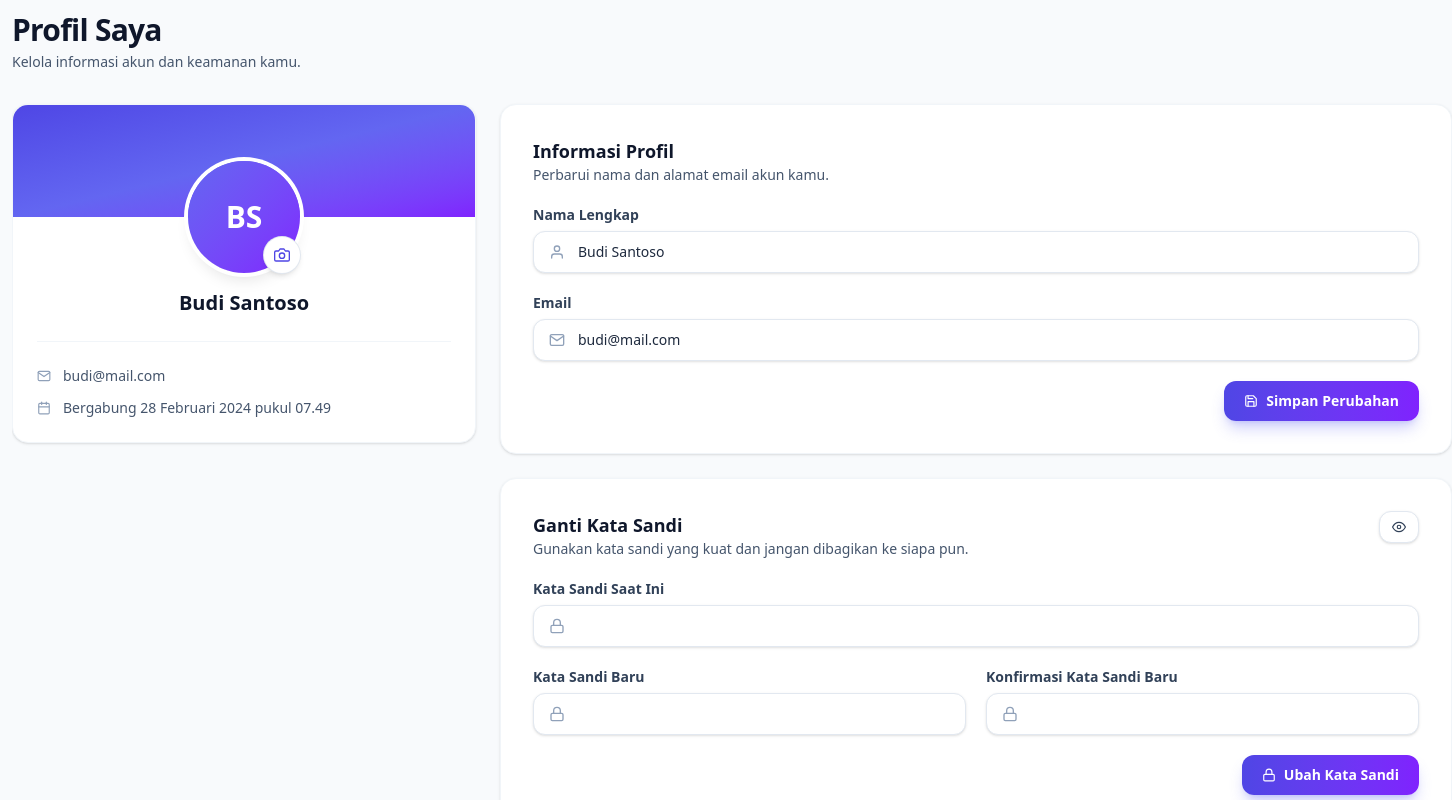
Test: ProfilePage › informasi profil › menampilkan pesan nama pendek dan email tidak valid
The width and height of the screenshot is (1452, 800).
Replace the text in the field labelled "Nama Lengkap" with "ab" at (976, 252), box [533, 231, 1419, 273]
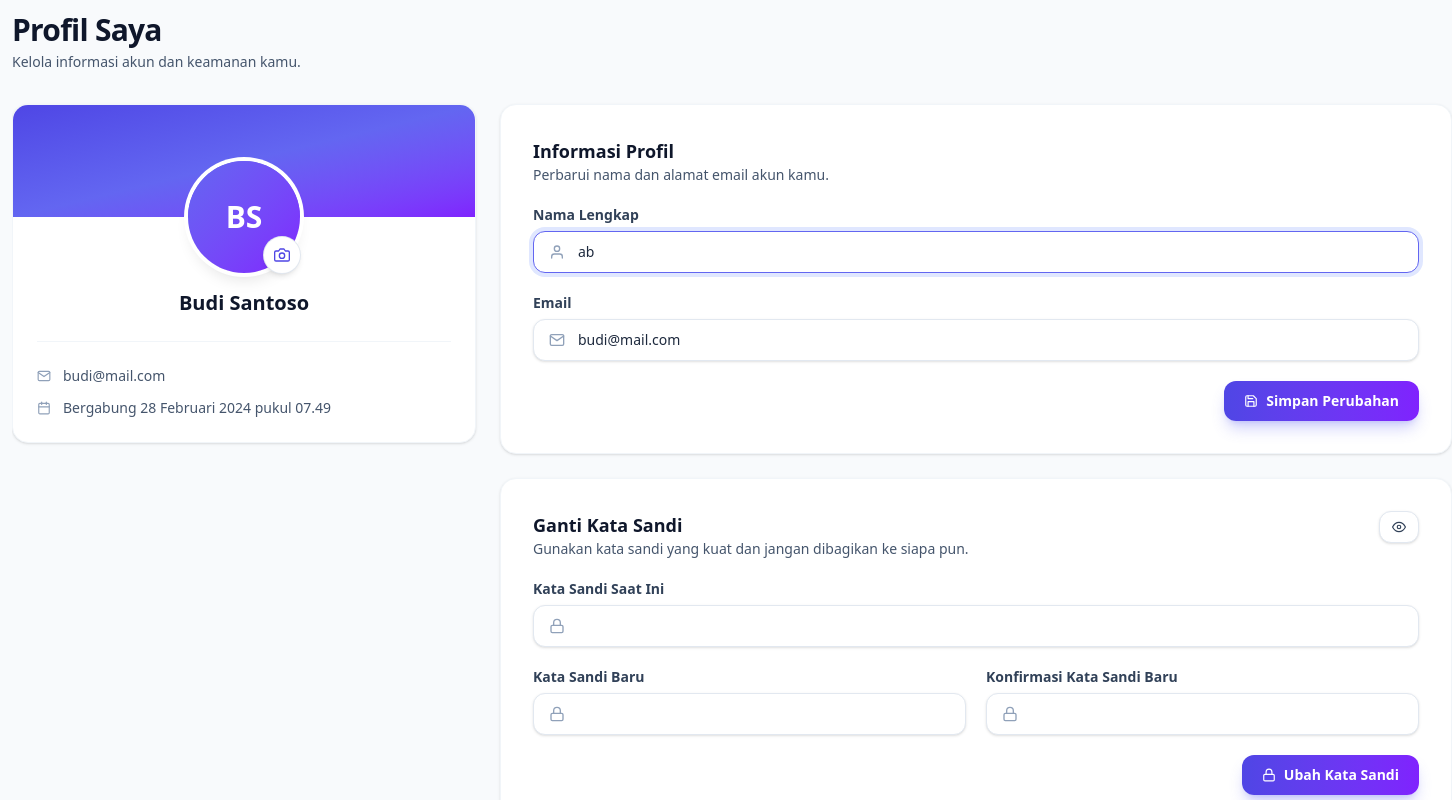
Replace the text in the field labelled "Email" with "bukan-email" at (976, 340), box [533, 319, 1419, 361]
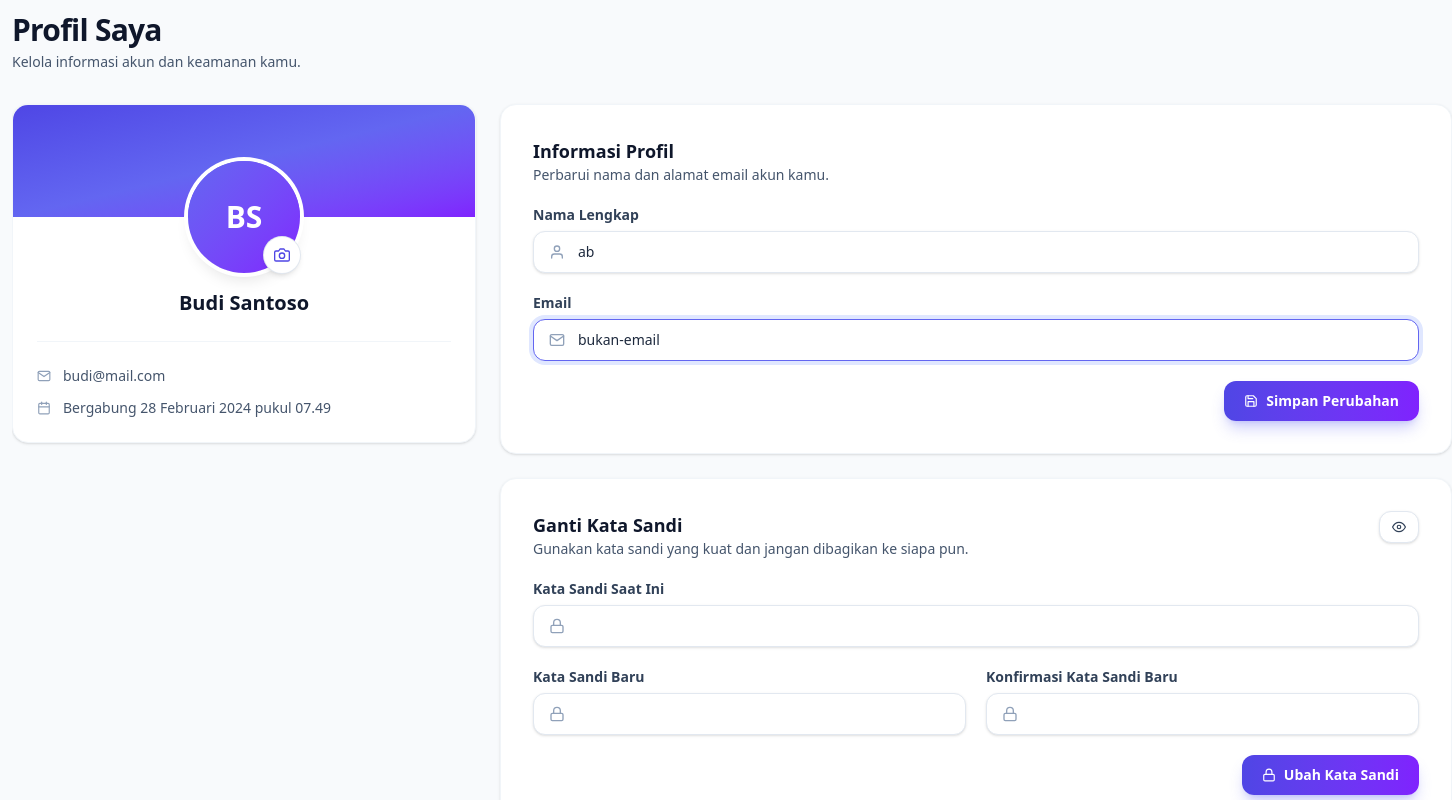
Click the button "Simpan Perubahan" at (1322, 401), box [1224, 381, 1419, 421]
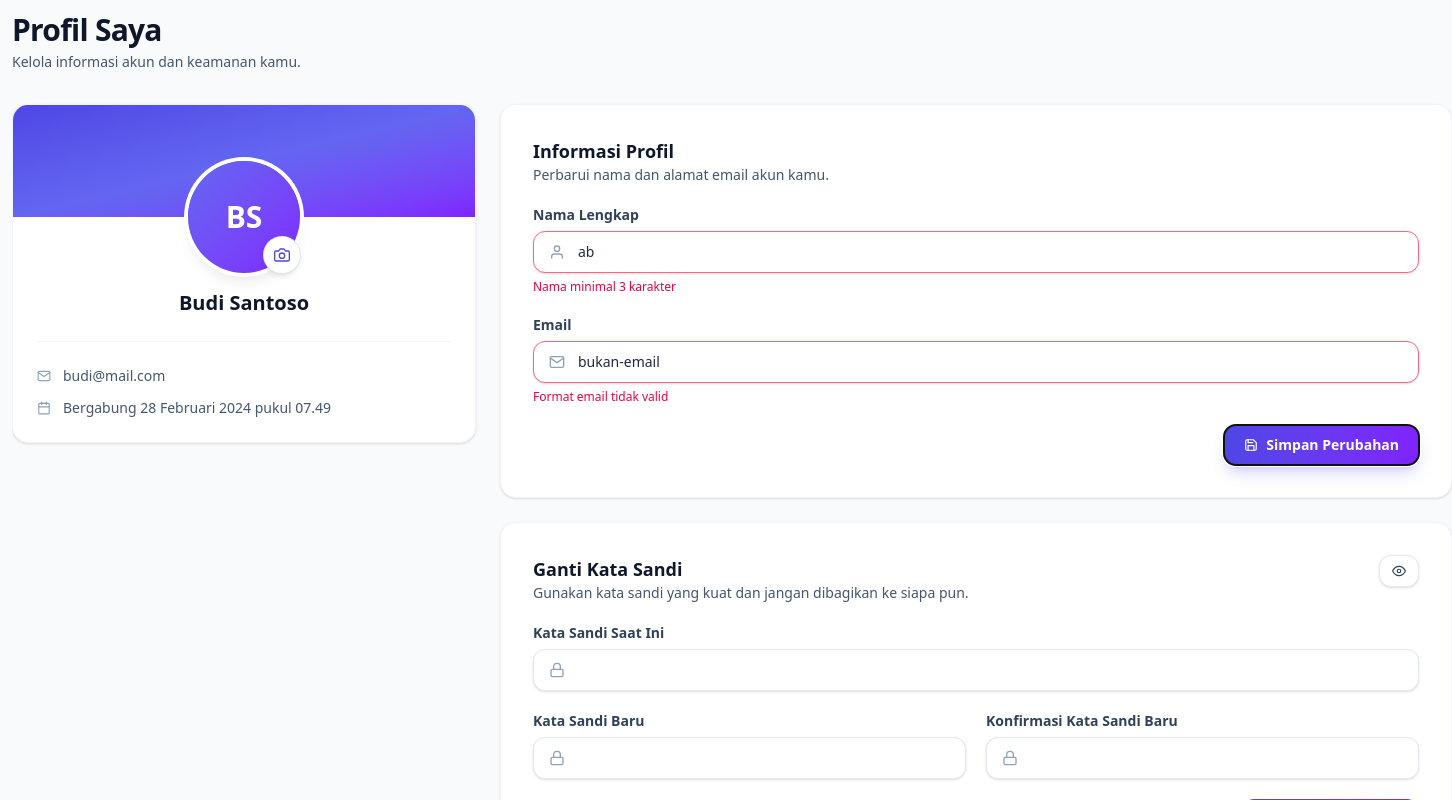
Check: the text "Nama minimal 3 karakter" is shown, box [533, 278, 676, 295]
Check: the text "Format email tidak valid" is shown, box [533, 388, 668, 405]
